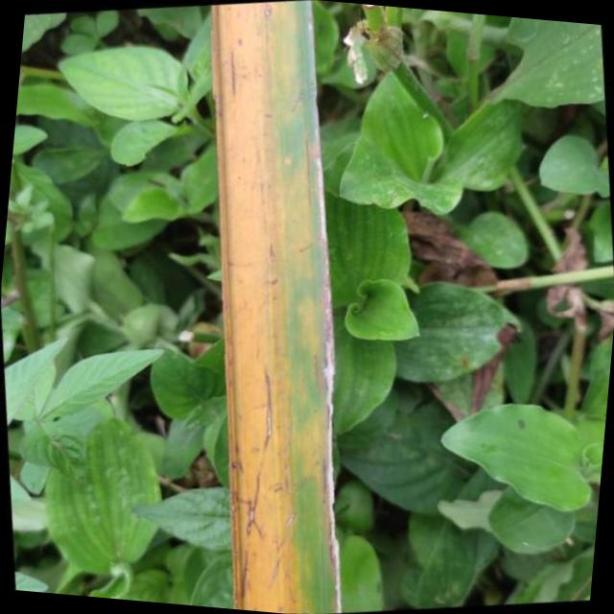Megnesium: (205, 0, 345, 614)
